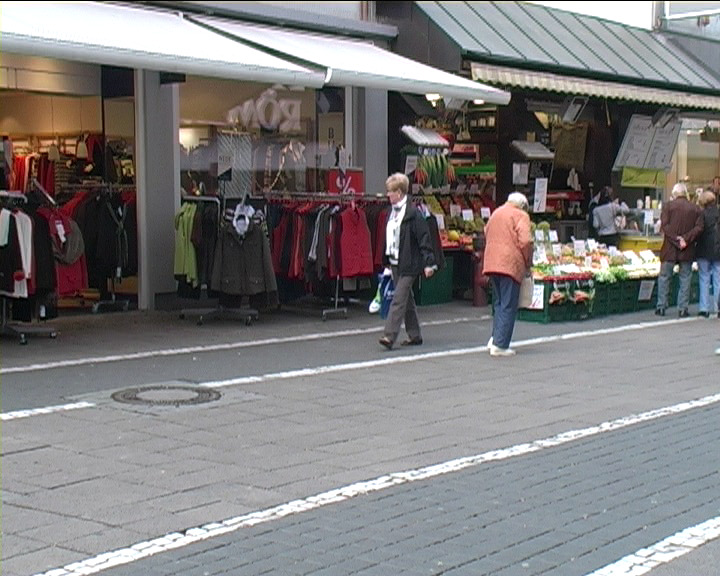deflection: (371, 172, 417, 227)
